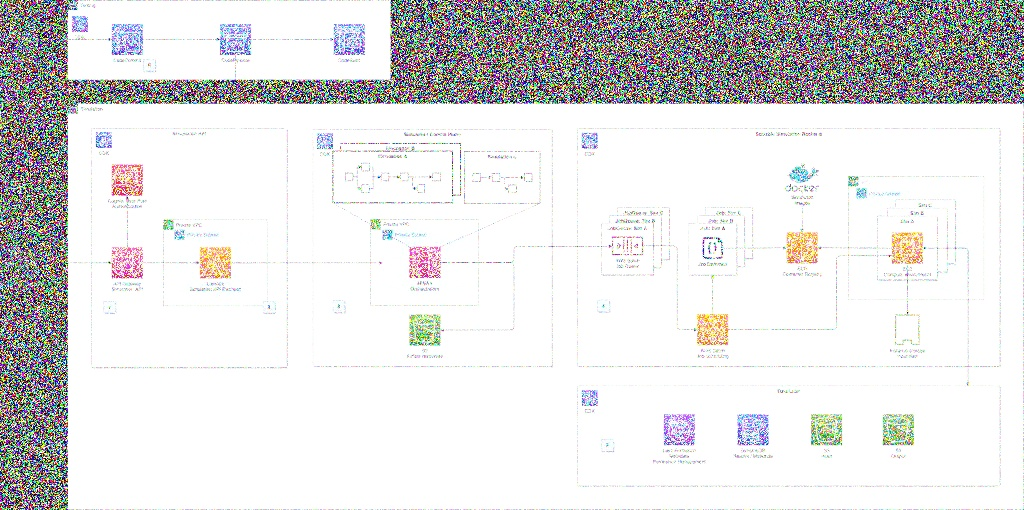ALB: (695, 311, 730, 349)
API-Gateway: (109, 245, 145, 280)
Build Environment: (329, 19, 369, 55)
CodePipeline: (218, 21, 253, 56)
Cognito: (107, 160, 146, 199)
Docker Image: (783, 157, 824, 185)
Dynamo DB: (735, 410, 771, 447)
EC2: (888, 229, 927, 265)
Elastic Container Registry: (783, 228, 821, 265)
Lambda: (199, 243, 233, 279)
S3: (809, 409, 843, 449), (881, 410, 917, 447), (409, 310, 443, 348)
Users: (4, 239, 45, 280), (4, 19, 42, 57)
